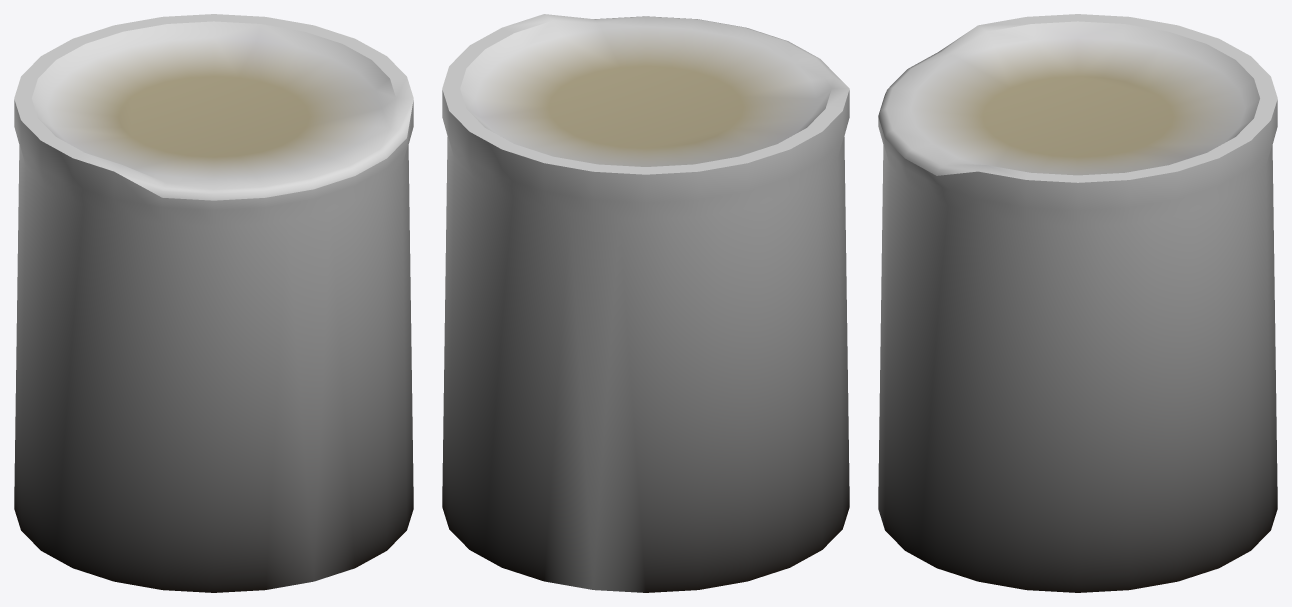
File: bambooBench.glb
3 views of the same model, side by side, from view 1: azimuth 30°, elevation 25°; view 2: azimuth 150°, elevation 25°; view 3: azimuth 270°, elevation 25° (orthographic).
Visible parts, largest first — view 1: Cylinder; view 2: Cylinder; view 3: Cylinder.
Part boxes in pixels (x1,y1,x2,y2): Cylinder: (14,14,413,592); Cylinder: (442,14,849,592); Cylinder: (878,14,1277,592).
Size of the model in its own units: 0.48 by 0.5435 by 0.48.
